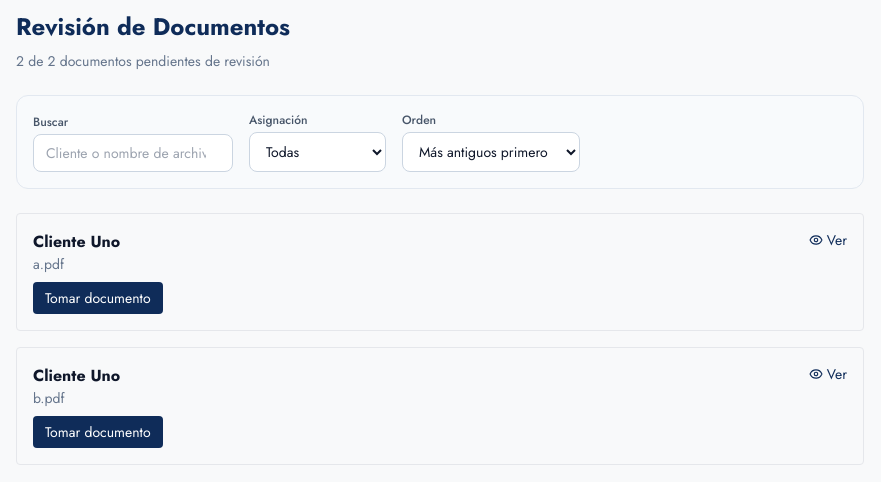
Test case: AgentDocumentsPanel › 'Limpiar filtros' restaura la lista completa
Expected: the text "a.pdf" is shown, [33,254,64,274]
In the search field labelled "Buscar": [133, 153] box [33,134,233,172], type "a.pdf"
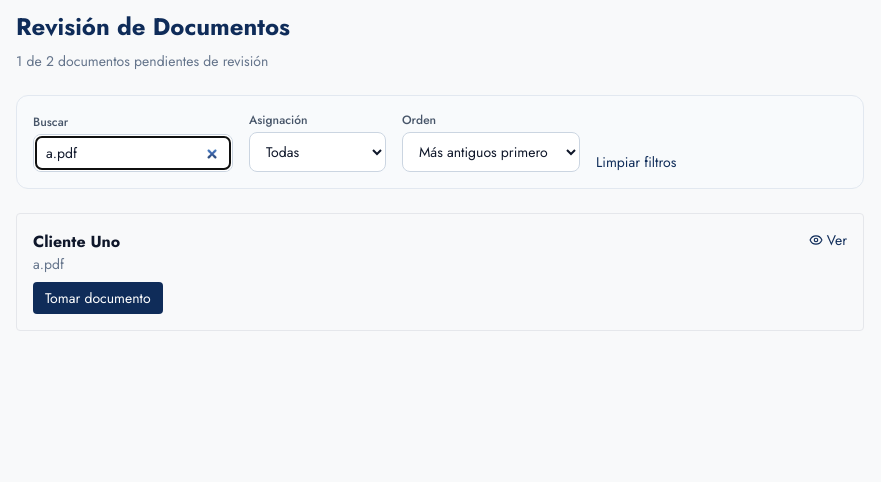
Now the text "b.pdf" is gone
Click the button "Limpiar filtros": [636, 162] box [596,152,676,172]
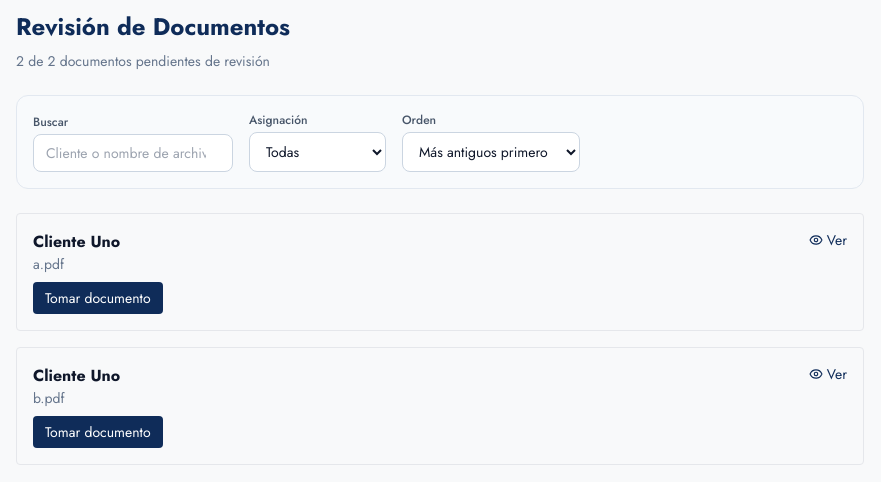
Expected: the text "a.pdf" is shown, [33,254,64,274]
Now the text "b.pdf" is shown, box [33,388,64,408]
